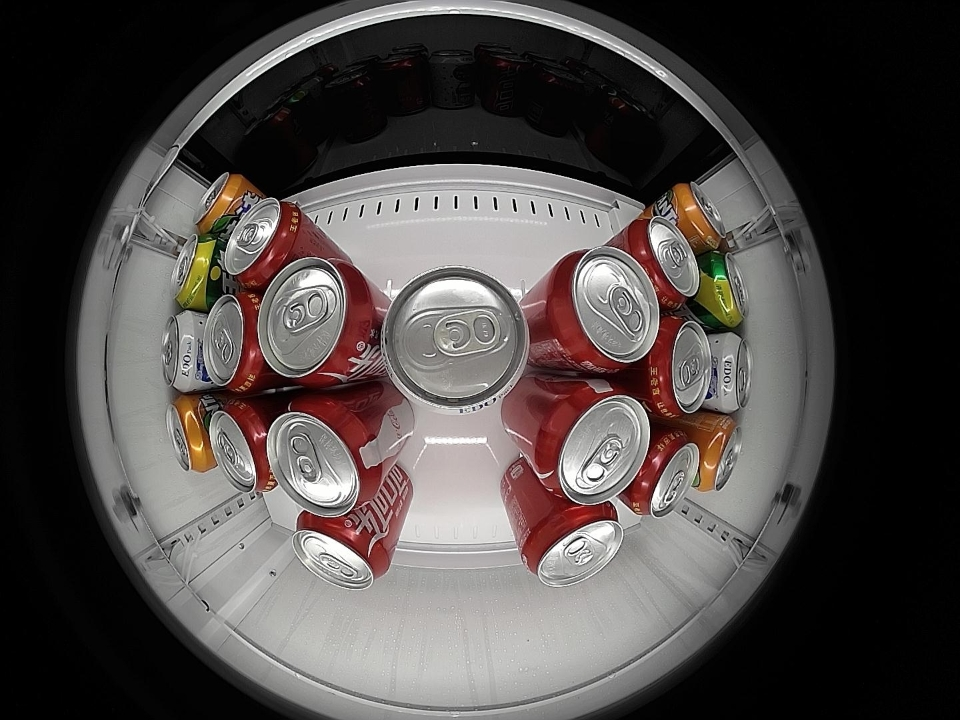fenda: (672, 182, 727, 251), (166, 395, 214, 473), (696, 415, 742, 492), (193, 172, 247, 235)
kele: (257, 256, 375, 386), (546, 246, 660, 374), (535, 381, 651, 505), (267, 395, 377, 517), (522, 504, 624, 587), (292, 515, 388, 590)
rusuanjunqishui: (381, 266, 530, 414), (161, 311, 207, 392), (708, 332, 753, 413)
wanglaoji-c: (221, 198, 303, 289), (645, 316, 714, 417), (628, 218, 700, 309), (629, 430, 700, 519), (202, 292, 264, 392), (208, 397, 273, 492)
xuebi2: (170, 234, 221, 309), (701, 252, 749, 329)
